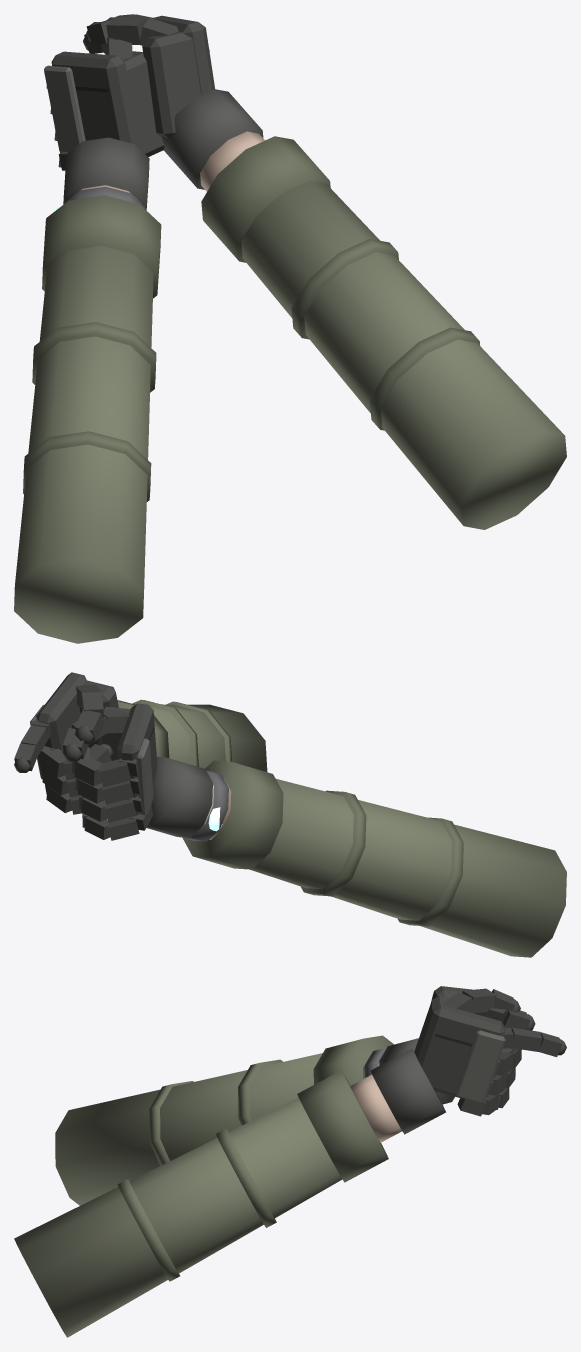
File: hands_magnum.glb
The picture shows the model from 3 angles, top to bottom: view 1: azimuth 30°, elevation 25°; view 2: azimuth 150°, elevation 25°; view 3: azimuth 270°, elevation 25°; orthographic projection. The views are drawn at different scales.
Parts seen in each view (by area): view 1: Hands_magnum, HandL; view 2: HandL, Hands_magnum; view 3: Hands_magnum, HandL.
Boxes of the visible parts, x1,y1,x2,y2 form: Hands_magnum: [86, 14, 566, 529]; HandL: [14, 34, 164, 643]; HandL: [62, 703, 566, 957]; Hands_magnum: [14, 672, 267, 814]; Hands_magnum: [14, 988, 566, 1337]; HandL: [55, 986, 535, 1205].
Bounding box in the file's own units: 0.4887 × 0.3632 × 0.5488.
